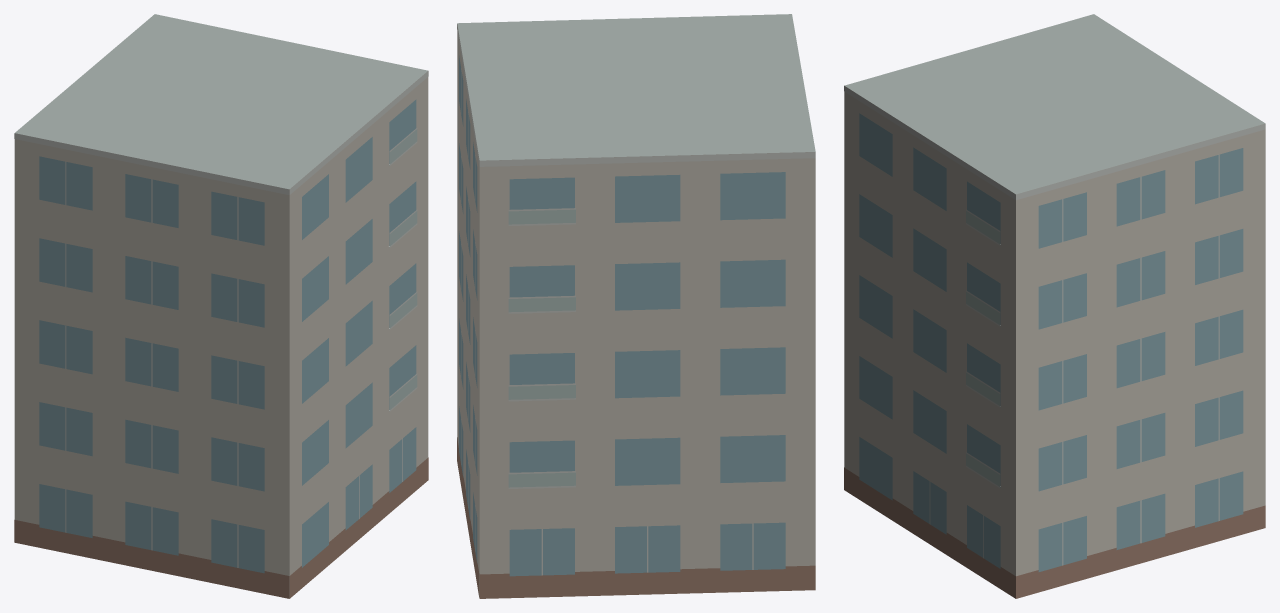
File: survey-upis-32890094.glb
3 views of the same model, side by side, from view 1: azimuth 30°, elevation 25°; view 2: azimuth 150°, elevation 25°; view 3: azimuth 270°, elevation 25° (orthographic). The views are drawn at different scales.
Parts seen in each view (by area): view 1: survey-upis-32890094.tmp; view 2: survey-upis-32890094.tmp; view 3: survey-upis-32890094.tmp.
Part boxes in pixels (left/top/right/bottom): survey-upis-32890094.tmp: left=14, top=14, right=428, bottom=598; survey-upis-32890094.tmp: left=457, top=14, right=815, bottom=598; survey-upis-32890094.tmp: left=844, top=14, right=1265, bottom=598.
Size of the model in its own units: 16.22 by 16.94 by 16.01.
